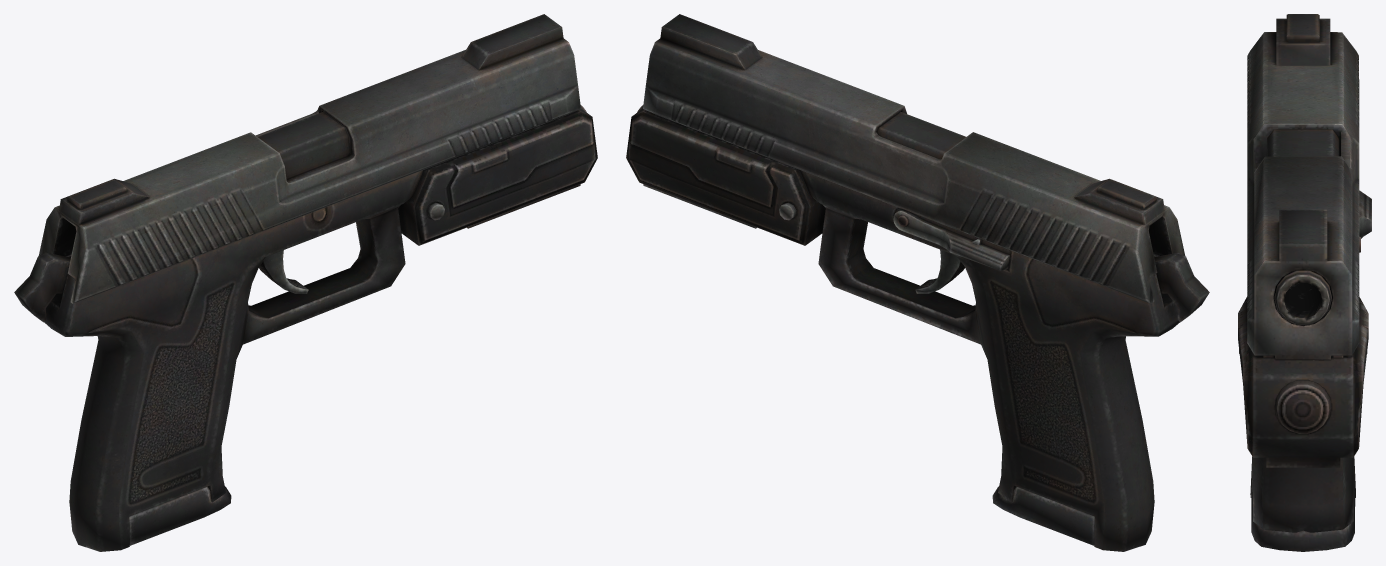
Rendered from pistol2_000014.obj.
3 renders of one model, left to right at view 1: azimuth 30°, elevation 25°; view 2: azimuth 150°, elevation 25°; view 3: azimuth 270°, elevation 25°, orthographic. The views are drawn at different scales.
Parts seen in each view (by area): view 1: Pistol; view 2: Pistol; view 3: Pistol.
Boxes of the visible parts, x1,y1,x2,y2 form: Pistol: (14,14,597,551); Pistol: (626,14,1209,551); Pistol: (1238,14,1371,551).
Size of the model in its own units: 0.9502 by 0.6549 by 0.1441.
1 material, 1 textured.
